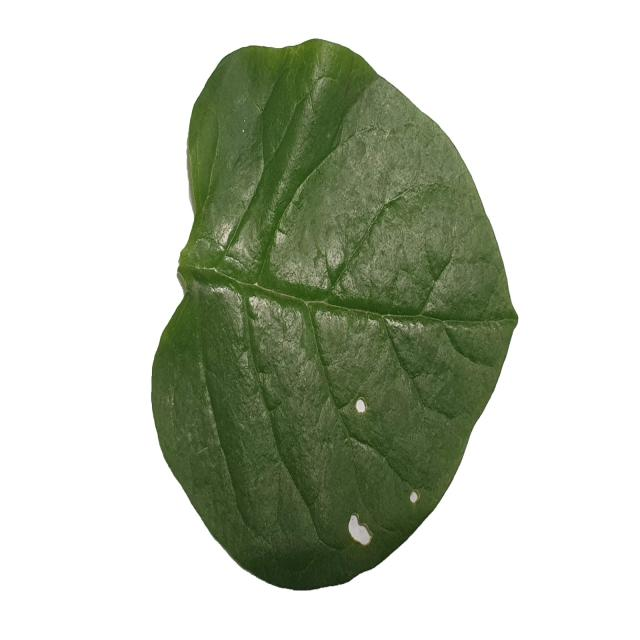Medicinal-Basale: (152, 36, 517, 590)
